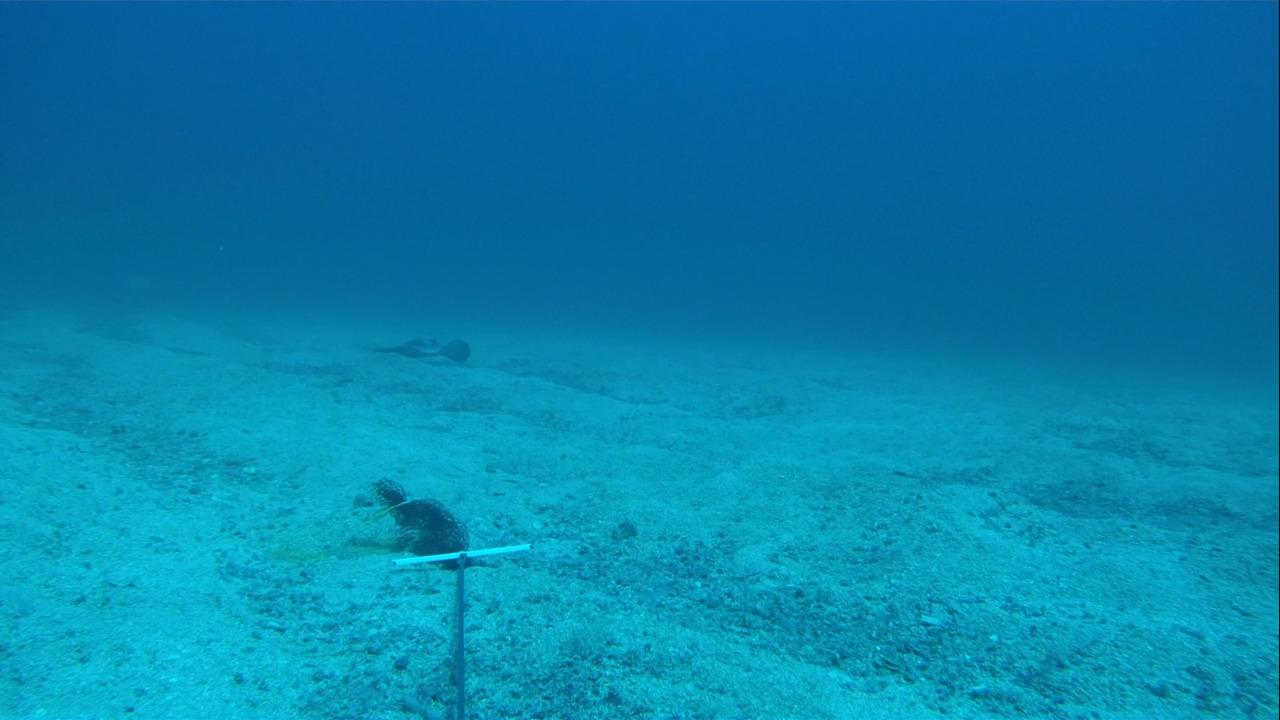myliobatis: (335, 328, 477, 368)
